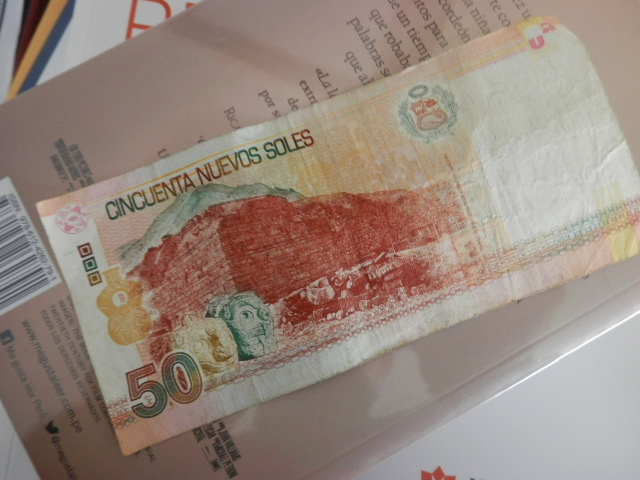B50: (58, 34, 640, 448)
